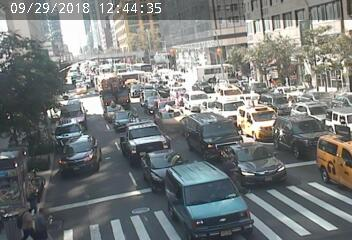car: (178, 167, 235, 229), (185, 114, 232, 153), (318, 139, 352, 180), (282, 115, 319, 151), (232, 151, 268, 186), (196, 63, 239, 92), (123, 124, 156, 154), (242, 109, 272, 135), (71, 140, 94, 171), (265, 91, 293, 114), (102, 77, 128, 101), (301, 102, 329, 122), (149, 151, 171, 176), (219, 98, 244, 115), (59, 124, 81, 142), (333, 111, 350, 131), (184, 95, 205, 107), (103, 106, 121, 117), (116, 112, 130, 124), (221, 84, 238, 93), (65, 105, 78, 115), (154, 101, 172, 107), (76, 86, 87, 92), (142, 88, 154, 93), (133, 85, 137, 92)
